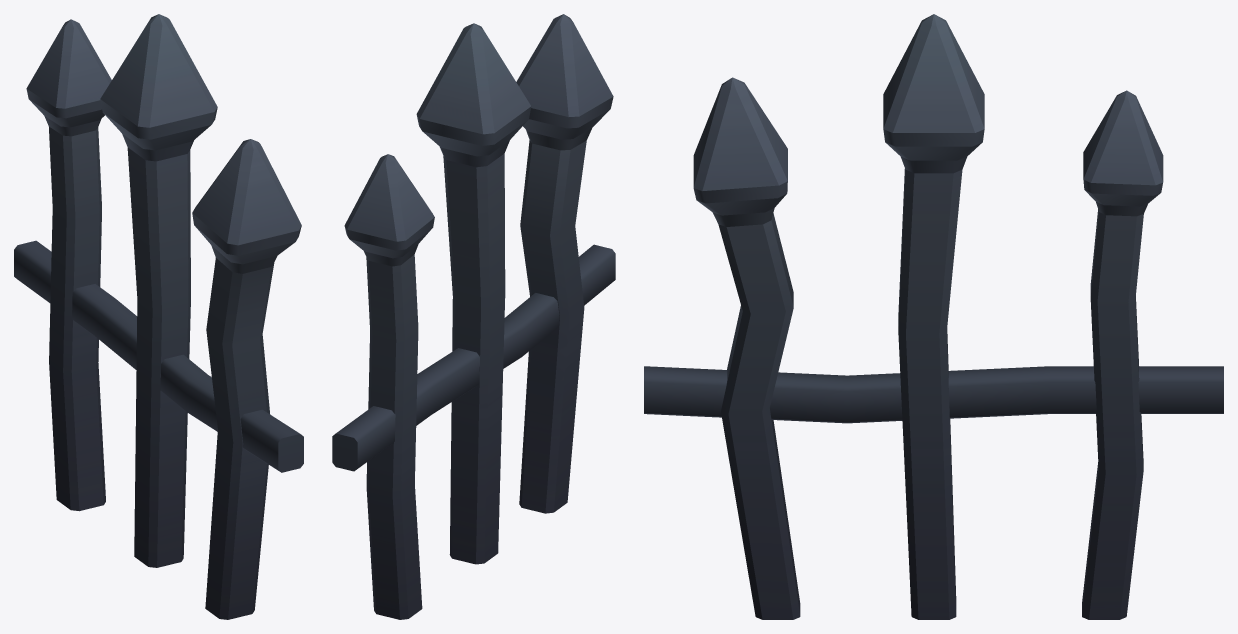
The model's file is Fence_4_2.obj.
3 renders of one model, left to right at view 1: azimuth 30°, elevation 25°; view 2: azimuth 150°, elevation 25°; view 3: azimuth 270°, elevation 25°, orthographic. The views are drawn at different scales.
Parts seen in each view (by area): view 1: Fence_4_2; view 2: Fence_4_2; view 3: Fence_4_2.
Part boxes in pixels (left/top/right/bottom): Fence_4_2: left=14, top=14, right=303, bottom=619; Fence_4_2: left=332, top=14, right=615, bottom=619; Fence_4_2: left=644, top=14, right=1223, bottom=619.
Bounding box in the file's own units: 0.1703 × 1.11 × 0.9745.
